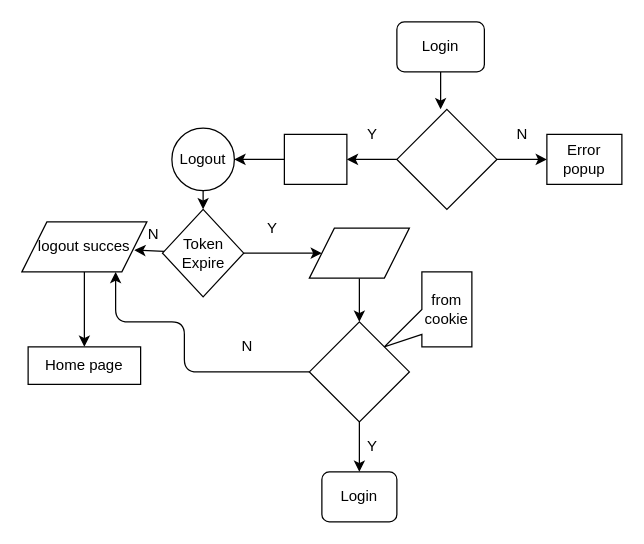
Some shapes in this 644 by 544 pixel diagram are drawn without their labels. Here are the shapes that lost their labels. From the top down, the box of each, then its label:
(283, 133, 347, 184): Admin
(396, 108, 497, 209): Verify
(308, 227, 409, 278): get fresh token
(308, 321, 409, 422): refesh token expire
